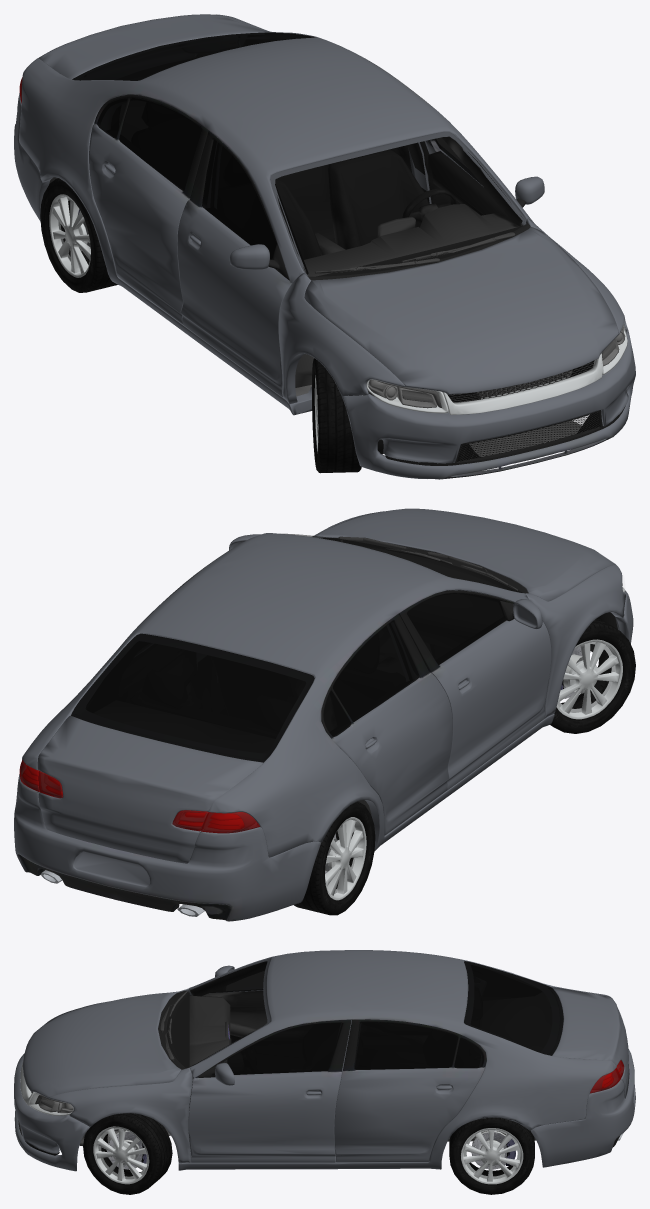
Rendered from car-sedan.glb.
3 renders of one model, top to bottom at view 1: azimuth 30°, elevation 25°; view 2: azimuth 150°, elevation 25°; view 3: azimuth 270°, elevation 25°, orthographic. The views are drawn at different scales.
Visible parts, largest first — view 1: sedan-unibody_65, hood_60, windshield_102, bumper-front_8, door-front-r_17, door-rear-r_23, fender-front-r_33, front-seat-backrest_39, dashboard_13, trunk_99, door-rear-window-glass-r_27, door-front-window-glass-r_19 (+21 smaller); view 2: sedan-unibody_65, glass-rear_42, trunk_99, bumper-rear_10, door-front-r_17, door-rear-r_23, hood_60, fender-front-r_33, door-rear-window-glass-r_27, door-front-window-glass-r_19, generic-wheel.001_126, generic-tire-low.001_125 (+8 smaller); view 3: sedan-unibody_65, door-front-l_16, door-rear-l_22, hood_60, windshield_102, glass-rear_42, fender-front-l_32, bumper-rear_10, trunk_99, door-rear-window-glass-l_26, door-front-window-glass-l_18, bumper-front_8 (+14 smaller).
Boxes of the visible parts, box(x1,y1,x2,y2) form: sedan-unibody_65: box(19, 14, 533, 415); hood_60: box(304, 227, 618, 394); windshield_102: box(270, 132, 527, 276); bumper-front_8: box(342, 328, 635, 479); door-front-r_17: box(177, 131, 291, 396); door-rear-r_23: box(89, 94, 208, 324); fender-front-r_33: box(278, 273, 404, 404); front-seat-backrest_39: box(328, 149, 428, 249); dashboard_13: box(304, 204, 520, 276); trunk_99: box(38, 14, 264, 79); door-rear-window-glass-r_27: box(119, 98, 201, 190); door-front-window-glass-r_19: box(202, 139, 276, 259); sedan-unibody_65: box(20, 533, 554, 857); glass-rear_42: box(71, 633, 314, 762); trunk_99: box(37, 715, 263, 863); bumper-rear_10: box(14, 774, 320, 921); door-front-r_17: box(398, 590, 551, 790); door-rear-r_23: box(321, 614, 452, 835); hood_60: box(312, 508, 615, 601); fender-front-r_33: box(525, 564, 625, 718); door-rear-window-glass-r_27: box(333, 621, 419, 721); door-front-window-glass-r_19: box(407, 593, 505, 664); generic-wheel.001_126: box(556, 639, 622, 719); generic-tire-low.001_125: box(550, 617, 635, 733); sedan-unibody_65: box(178, 950, 621, 1170); door-front-l_16: box(188, 1019, 351, 1162); door-rear-l_22: box(334, 1019, 486, 1162); hood_60: box(22, 991, 181, 1098); windshield_102: box(167, 958, 270, 1068); glass-rear_42: box(464, 961, 563, 1055); fender-front-l_32: box(49, 1067, 192, 1163); bumper-rear_10: box(530, 1049, 635, 1167); trunk_99: box(552, 987, 629, 1098); door-rear-window-glass-l_26: box(354, 1022, 457, 1069); door-front-window-glass-l_18: box(227, 1023, 342, 1074); bumper-front_8: box(14, 1053, 89, 1171).
Size of the model in its own units: 2.16 by 1.5 by 4.98.
21 materials, 7 textured.
